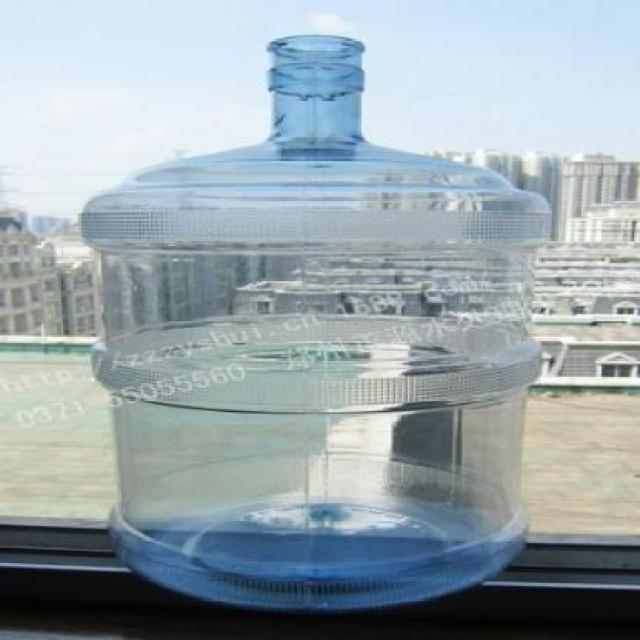coolerbottle: (68, 28, 560, 614)
